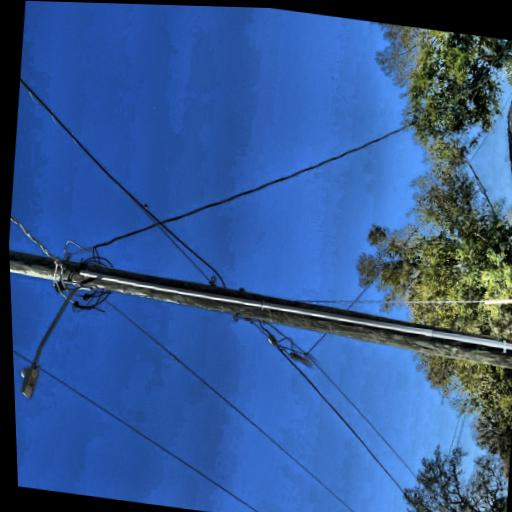pole: (0, 3, 132, 496)
street light: (9, 115, 78, 200)
